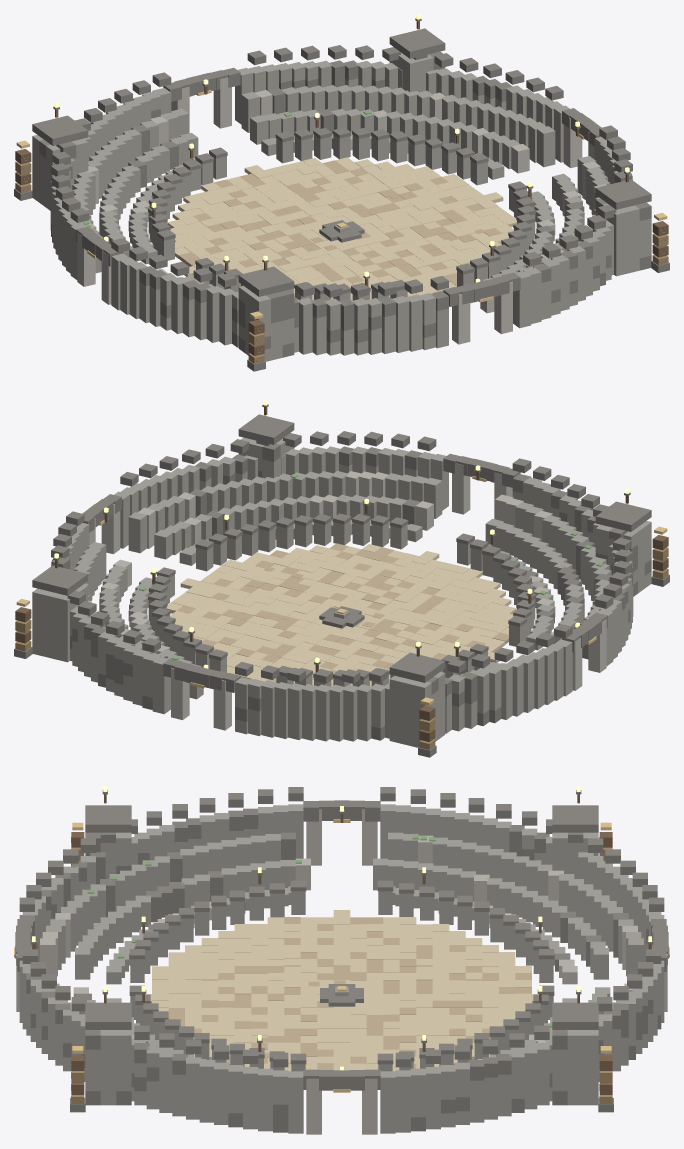
Rendered from arena.glb.
3 views of the same model, one above another, from view 1: azimuth 30°, elevation 25°; view 2: azimuth 150°, elevation 25°; view 3: azimuth 270°, elevation 25° (orthographic). The views are drawn at different scales.
Visible parts, largest first — view 1: Arena_Stone, Arena_StoneDark, Arena_Sand, Arena_StoneLight, Arena_SandDark, Arena_WoodDark, Arena_Wood; view 2: Arena_Stone, Arena_StoneDark, Arena_Sand, Arena_StoneLight, Arena_SandDark, Arena_WoodDark, Arena_Wood; view 3: Arena_Stone, Arena_StoneDark, Arena_Sand, Arena_SandDark, Arena_StoneLight, Arena_WoodDark, Arena_Wood, Arena_Gold.
Boxes of the visible parts, x1,y1,x2,y2 form: Arena_Stone: [32, 52, 651, 361]; Arena_StoneDark: [14, 18, 669, 371]; Arena_Sand: [167, 157, 516, 300]; Arena_StoneLight: [77, 77, 606, 344]; Arena_SandDark: [178, 160, 501, 286]; Arena_WoodDark: [15, 21, 668, 356]; Arena_Wood: [15, 161, 668, 363]; Arena_Stone: [32, 437, 651, 747]; Arena_StoneDark: [14, 404, 669, 757]; Arena_Sand: [167, 544, 516, 686]; Arena_StoneLight: [88, 463, 606, 730]; Arena_SandDark: [177, 543, 508, 682]; Arena_WoodDark: [15, 407, 668, 742]; Arena_Wood: [15, 547, 668, 749]; Arena_Stone: [19, 804, 664, 1133]; Arena_StoneDark: [15, 787, 668, 1132]; Arena_Sand: [145, 910, 538, 1071]; Arena_SandDark: [168, 917, 531, 1069]; Arena_StoneLight: [16, 809, 667, 1134]; Arena_WoodDark: [32, 794, 651, 1094]; Arena_Wood: [71, 847, 612, 1103]; Arena_Gold: [14, 819, 669, 1092].
Size of the model in its own units: 59.6 by 11.47 by 59.6.
